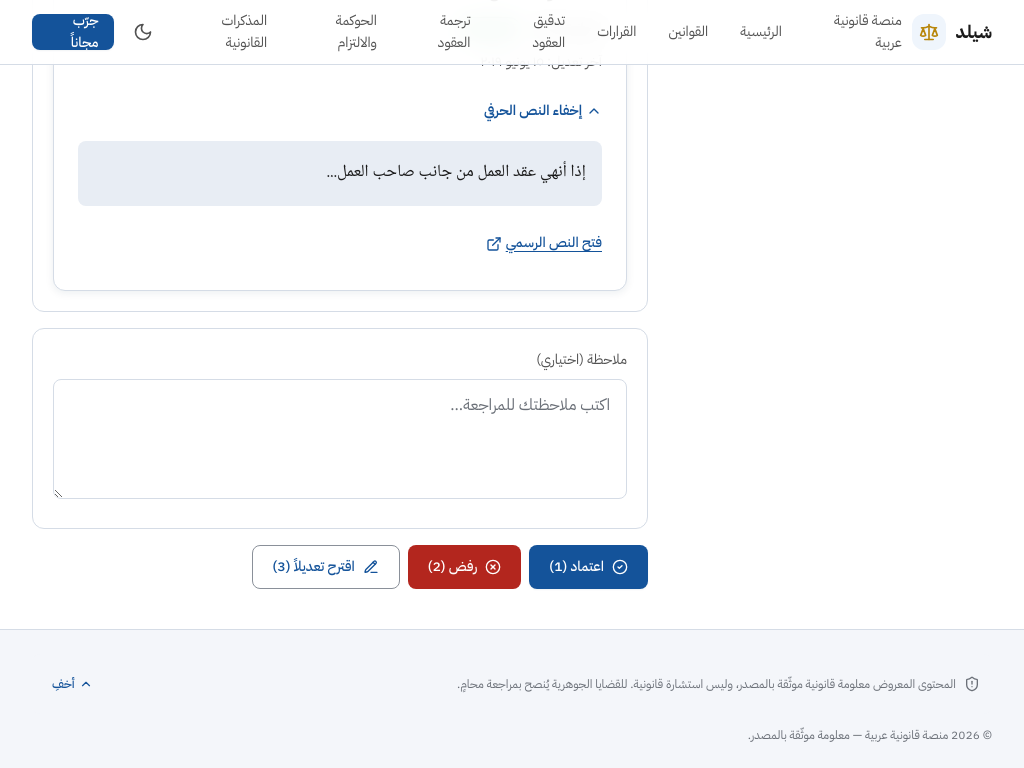
Test case: ReviewPage › يعرض الحالة الفارغة بعد حسم كل العناصر (لا طريق مسدود)
(page scrolled)
Click the button "اعتماد (1)" at (589,567), box [529, 545, 648, 589]
(page scrolled)
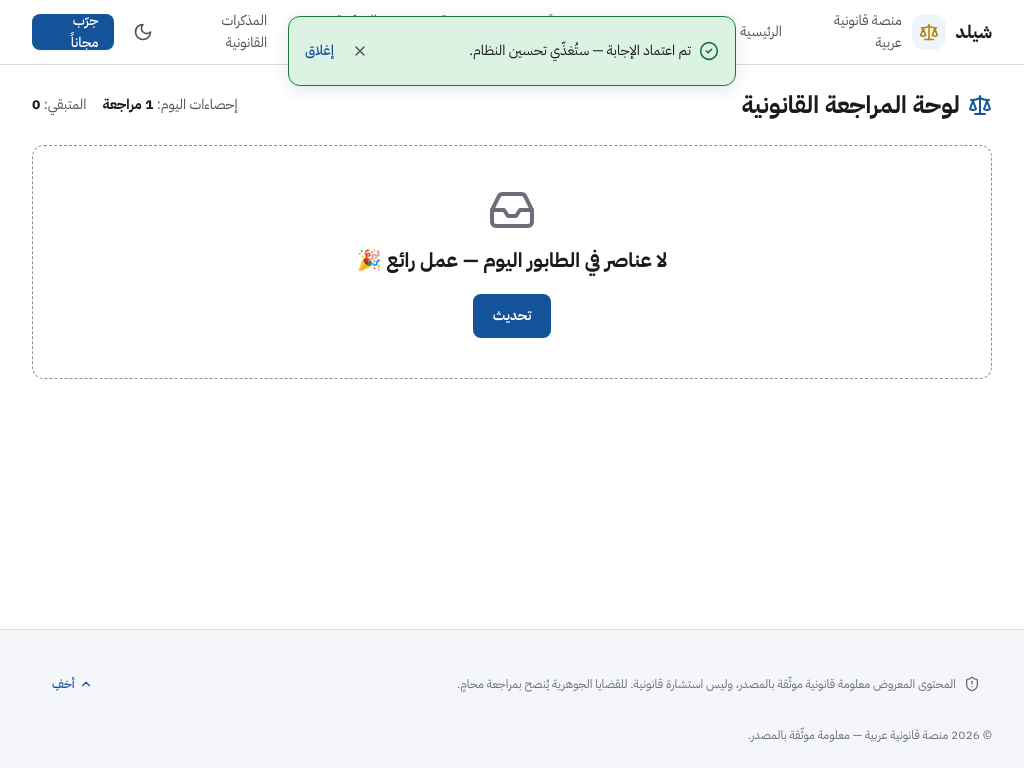
Check: the heading "لا عناصر في الطابور اليوم — عمل رائع 🎉" is shown, box [357, 246, 667, 274]
Check: the button "تحديث" is shown, box [473, 294, 551, 338]
